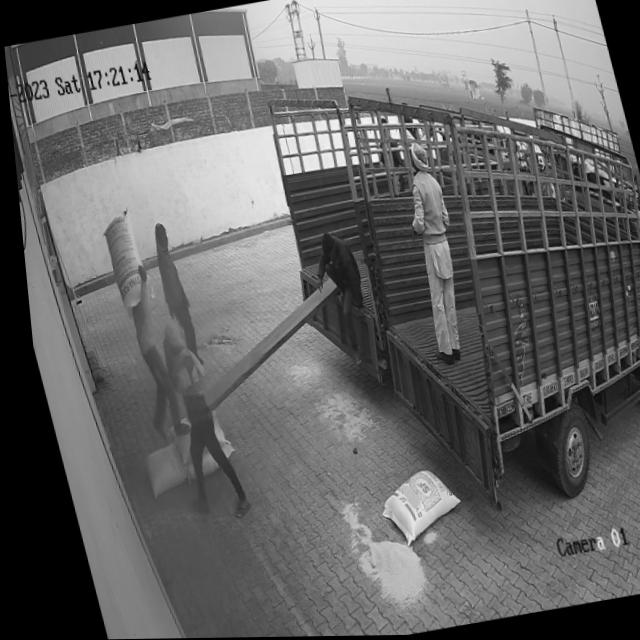sack: (362, 465, 459, 549), (92, 208, 150, 317), (131, 443, 182, 498), (171, 441, 232, 480)
